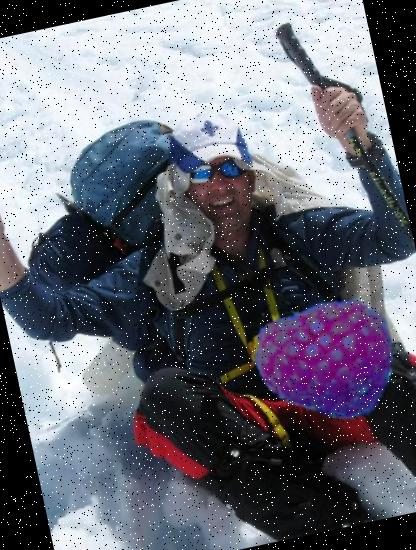Raspberry: (244, 270, 408, 433)
